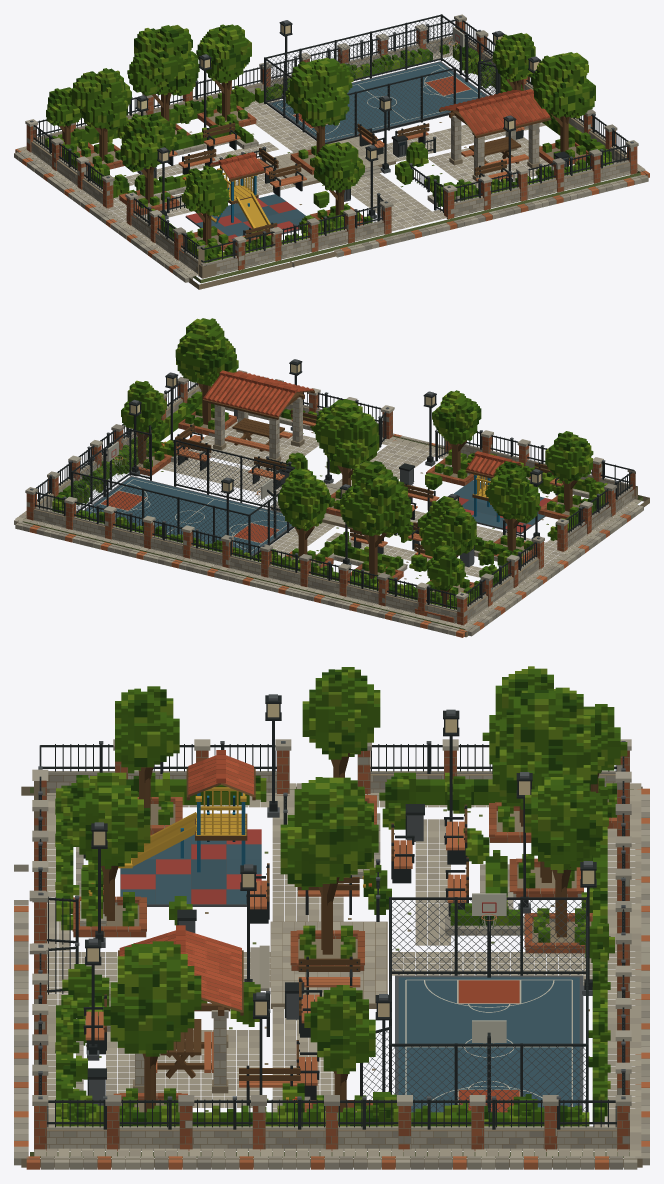
File: SM_StreetFrontage_122.fbx
3 views of the same model, one above another, from view 1: azimuth 30°, elevation 25°; view 2: azimuth 150°, elevation 25°; view 3: azimuth 270°, elevation 25° (orthographic). The views are drawn at different scales.
Parts seen in each view (by area): view 1: SM_StreetFrontage_122; view 2: SM_StreetFrontage_122; view 3: SM_StreetFrontage_122.
Part boxes in pixels (left/top/right/bottom): SM_StreetFrontage_122: left=14, top=14, right=649, bottom=289; SM_StreetFrontage_122: left=14, top=318, right=649, bottom=637; SM_StreetFrontage_122: left=14, top=666, right=649, bottom=1169.
Size of the model in its own units: 80 by 56.85 by 19.9.
